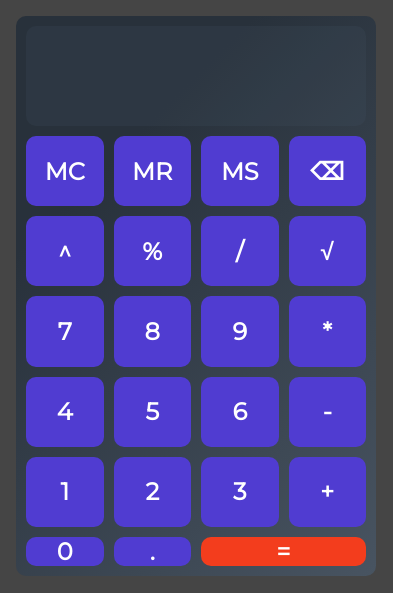
Does page render correctly › Testing for decimals calculation
Click the button "4". click: coordinates (65, 412)
box: [26, 377, 104, 447]
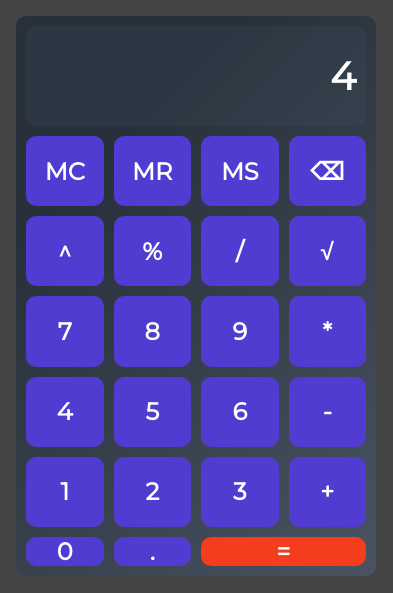
Click the button ".". click: coordinates (152, 552)
box: [114, 537, 191, 566]
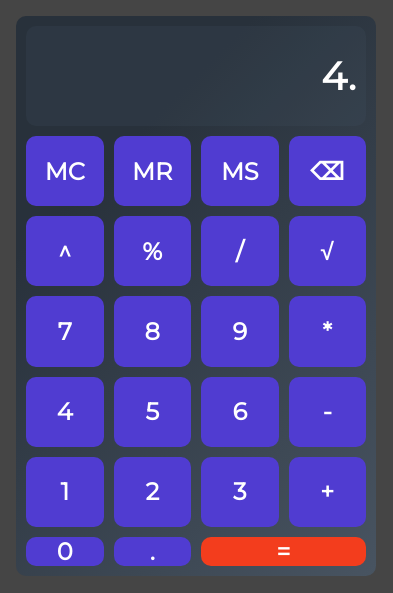
Click the button "5". click: coordinates (152, 412)
box: [114, 377, 191, 447]
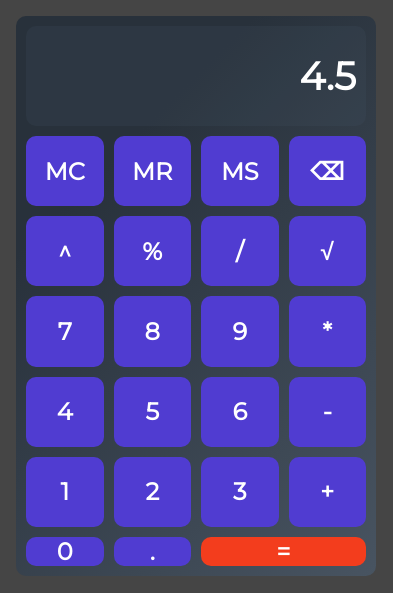
Click the button "*". click: coordinates (327, 332)
box: [288, 296, 366, 367]
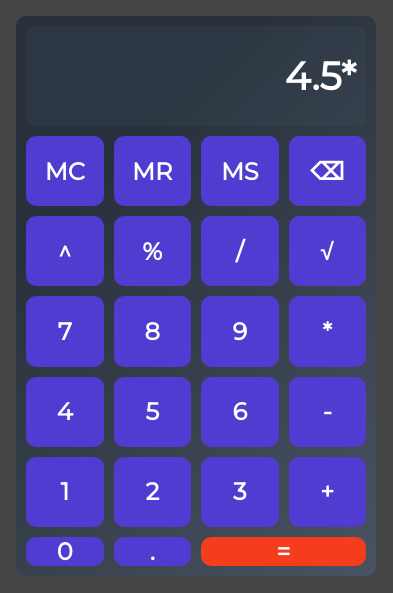
Click the button "2". click: coordinates (152, 492)
box: [114, 457, 191, 527]
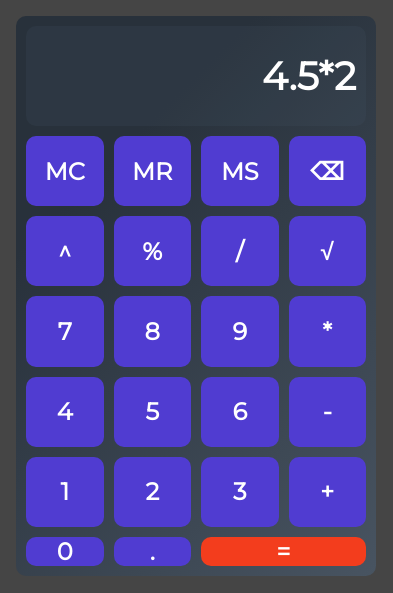
Click the button "=". click: coordinates (284, 552)
box: [201, 537, 366, 566]
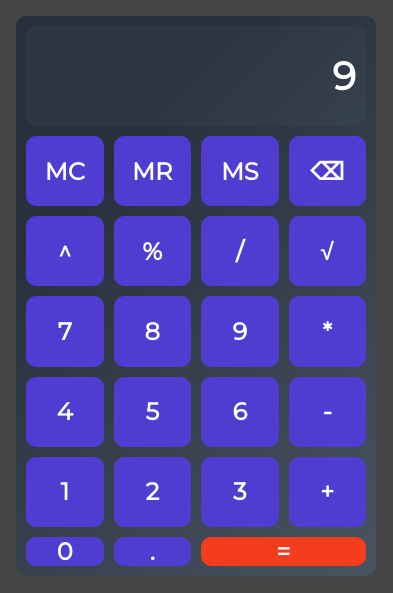
Expected: the text with test id "screen-id" reads "9", [332, 52, 356, 100]
